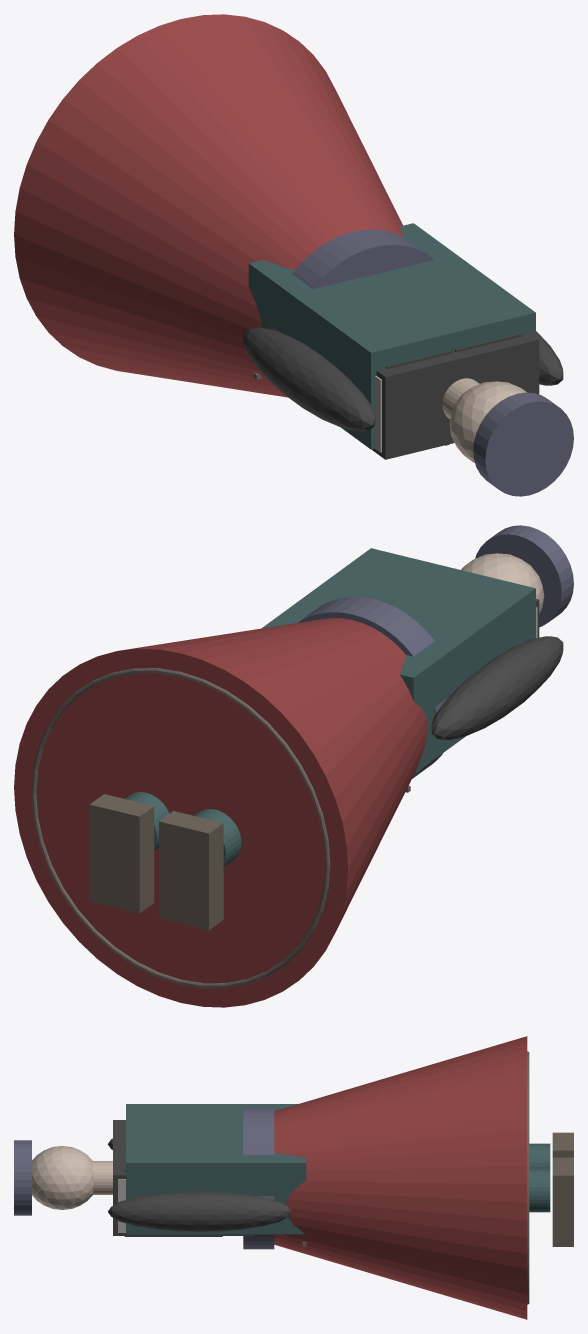
Rendered from MASTER_085_STAGE3_DETAIL.glb.
The picture shows the model from 3 angles, top to bottom: view 1: azimuth 30°, elevation 25°; view 2: azimuth 150°, elevation 25°; view 3: azimuth 270°, elevation 25°; orthographic projection. The views are drawn at different scales.
Visible parts, largest first — view 1: slot_lower_main__fund_i_gjatë, slot_outerwear__kanaci, slot_upper_inner__këmishë, slot_headwear__mbulesë_koke, slot_upper_inner_sleeve_L, slot_waist__brez, mannequin_head, slot_upper_inner_sleeve_R, mannequin_neck; view 2: slot_lower_main__fund_i_gjatë, slot_outerwear__kanaci, slot_footwear__opinga_R, slot_footwear__opinga_L, slot_upper_inner_sleeve_L, detail_skirt_hem, slot_headwear__mbulesë_koke, slot_waist__brez, mannequin_head, slot_legwear__çorape_L, slot_legwear__çorape_R; view 3: slot_lower_main__fund_i_gjatë, slot_outerwear__kanaci, slot_upper_inner_sleeve_R, mannequin_head, slot_waist__brez, slot_footwear__opinga_R, slot_headwear__mbulesë_koke, slot_upper_inner__këmishë, slot_legwear__çorape_R, detail_skirt_hem, mannequin_neck, slot_footwear__opinga_L (+1 smaller).
Part boxes in pixels (x1,y1,x2,y2): slot_lower_main__fund_i_gjatë: (14, 14, 403, 397); slot_outerwear__kanaci: (248, 223, 535, 449); slot_upper_inner__këmishë: (371, 333, 539, 459); slot_headwear__mbulesë_koke: (473, 392, 573, 496); slot_upper_inner_sleeve_L: (243, 327, 375, 431); slot_waist__brez: (269, 229, 434, 333); mannequin_head: (449, 381, 526, 462); slot_upper_inner_sleeve_R: (536, 331, 563, 385); mannequin_neck: (442, 378, 479, 418); slot_lower_main__fund_i_gjatë: (14, 618, 427, 1007); slot_outerwear__kanaci: (261, 548, 535, 773); slot_footwear__opinga_R: (89, 794, 154, 913); slot_footwear__opinga_L: (159, 811, 223, 930); slot_upper_inner_sleeve_L: (431, 636, 563, 740); detail_skirt_hem: (31, 668, 330, 988); slot_headwear__mbulesë_koke: (475, 525, 573, 627); slot_waist__brez: (298, 596, 448, 778); mannequin_head: (461, 553, 544, 613); slot_legwear__çorape_L: (194, 809, 241, 867); slot_legwear__çorape_R: (124, 792, 169, 850); slot_lower_main__fund_i_gjatë: (274, 1036, 527, 1319); slot_outerwear__kanaci: (126, 1104, 306, 1234); slot_upper_inner_sleeve_R: (108, 1191, 291, 1231); mannequin_head: (32, 1146, 93, 1209); slot_waist__brez: (243, 1106, 274, 1249); slot_footwear__opinga_R: (552, 1157, 573, 1246); slot_headwear__mbulesë_koke: (14, 1140, 31, 1215); slot_upper_inner__këmishë: (113, 1120, 253, 1235); slot_legwear__çorape_R: (529, 1168, 550, 1212); detail_skirt_hem: (527, 1051, 529, 1304); mannequin_neck: (92, 1161, 112, 1194); slot_footwear__opinga_L: (552, 1132, 573, 1157).
Bounding box in the file's own units: 0.8675 × 0.8675 × 1.71.
